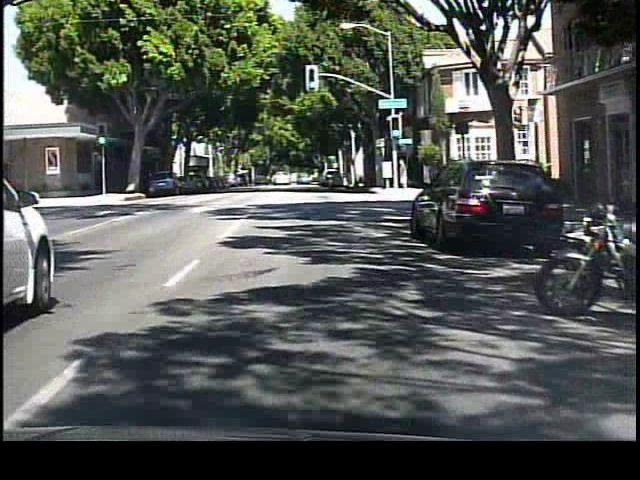person: (395, 157, 412, 193)
